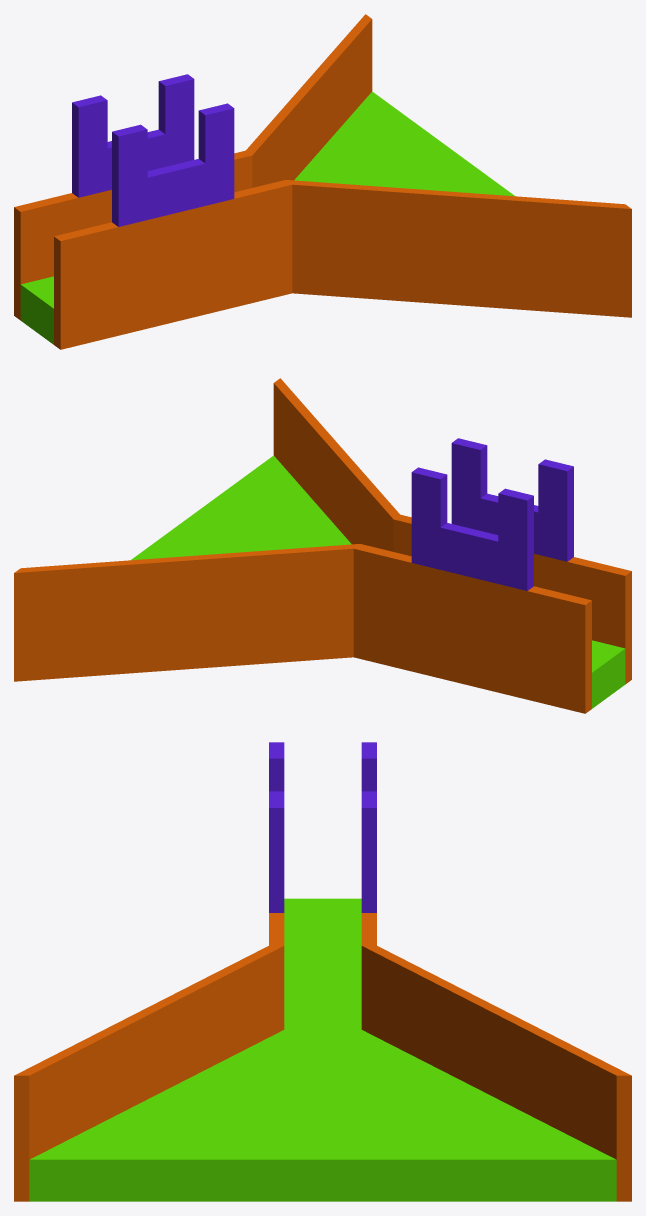
File: excavator_base_wide.fbx
The picture shows the model from 3 angles, top to bottom: view 1: azimuth 30°, elevation 25°; view 2: azimuth 150°, elevation 25°; view 3: azimuth 270°, elevation 25°; orthographic projection. The views are drawn at different scales.
Parts seen in each view (by area): view 1: Plane; view 2: Plane; view 3: Plane.
Boxes of the visible parts, bbox=[...] form: Plane: bbox=[14, 14, 631, 349]; Plane: bbox=[14, 378, 631, 713]; Plane: bbox=[14, 742, 631, 1201].
Size of the model in its own units: 400 by 165 by 400.
